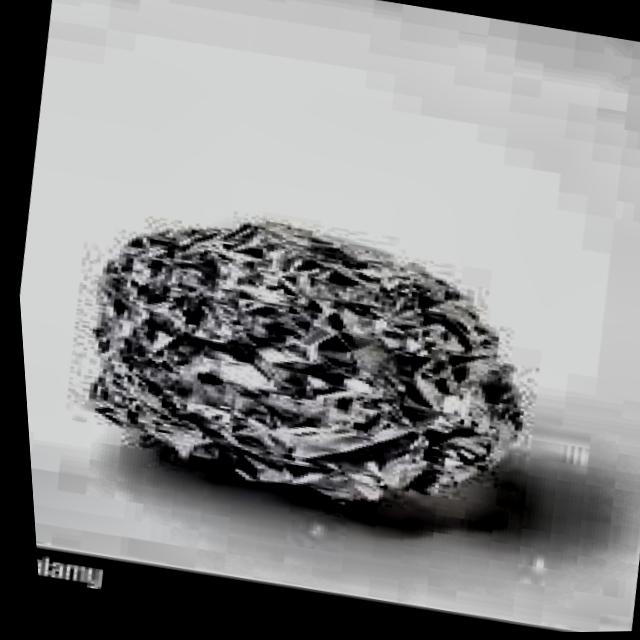Foil: (52, 172, 594, 557)
